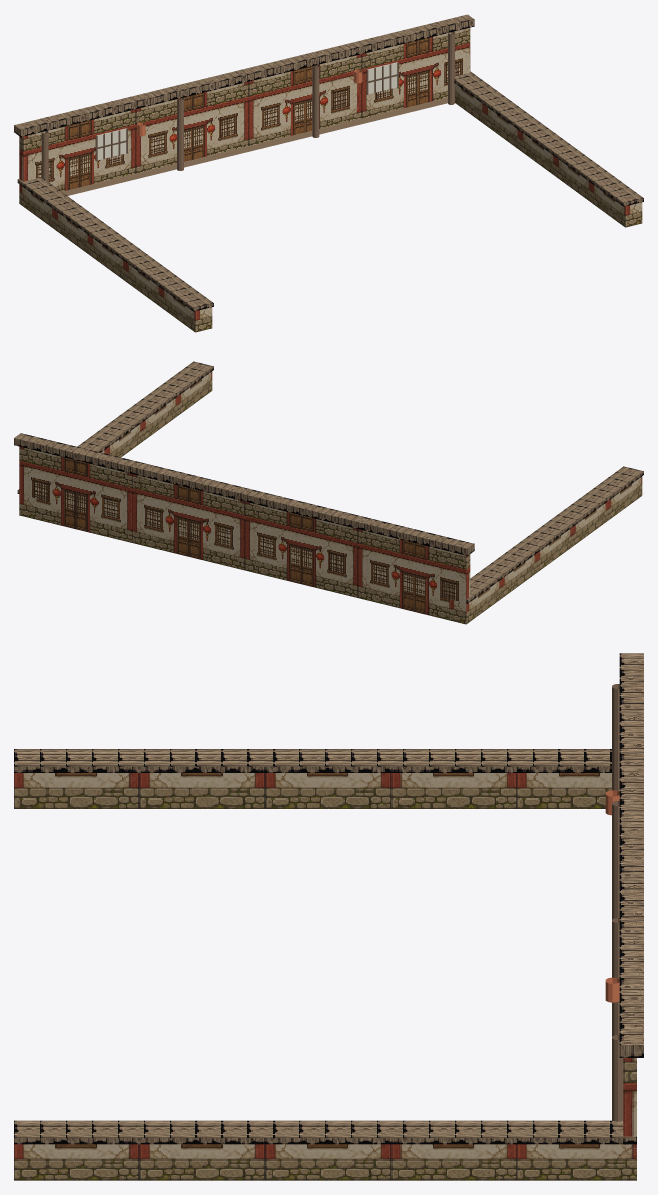
The model's file is rm_library.glb.
The picture shows the model from 3 angles, top to bottom: view 1: azimuth 30°, elevation 25°; view 2: azimuth 150°, elevation 25°; view 3: azimuth 270°, elevation 25°; orthographic projection. The views are drawn at different scales.
Parts seen in each view (by area): view 1: wall, beam, side, trim, post, paper, lat; view 2: wall, beam, side; view 3: side, beam, post, wall.
Boxes of the visible parts, bbox=[...] form: wall: bbox=[19, 27, 470, 204]; beam: bbox=[14, 14, 643, 311]; side: bbox=[19, 83, 642, 332]; trim: bbox=[23, 97, 447, 205]; post: bbox=[41, 31, 454, 181]; paper: bbox=[96, 62, 397, 160]; lat: bbox=[95, 62, 398, 160]; wall: bbox=[19, 446, 470, 623]; beam: bbox=[14, 361, 643, 603]; side: bbox=[19, 371, 642, 624]; side: bbox=[14, 773, 636, 1180]; beam: bbox=[14, 653, 643, 1144]; post: bbox=[612, 684, 623, 1121]; wall: bbox=[623, 1058, 636, 1178].
Size of the model in its own units: 268 by 44 by 182.
Materials: 8 (3 with a texture image).
